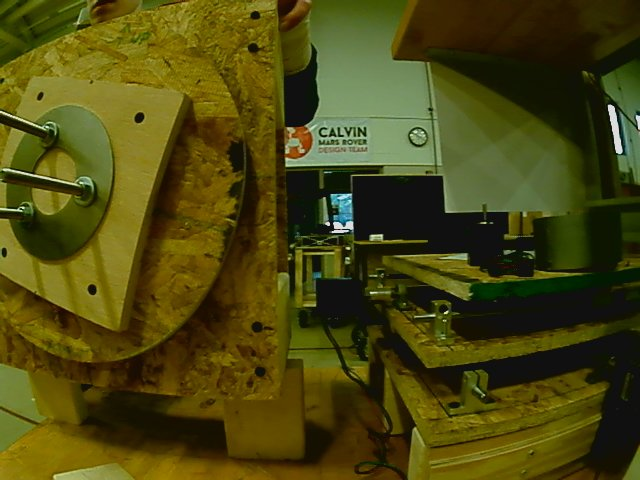bolt: (71, 175, 97, 208), (15, 200, 36, 230), (38, 120, 60, 148)
